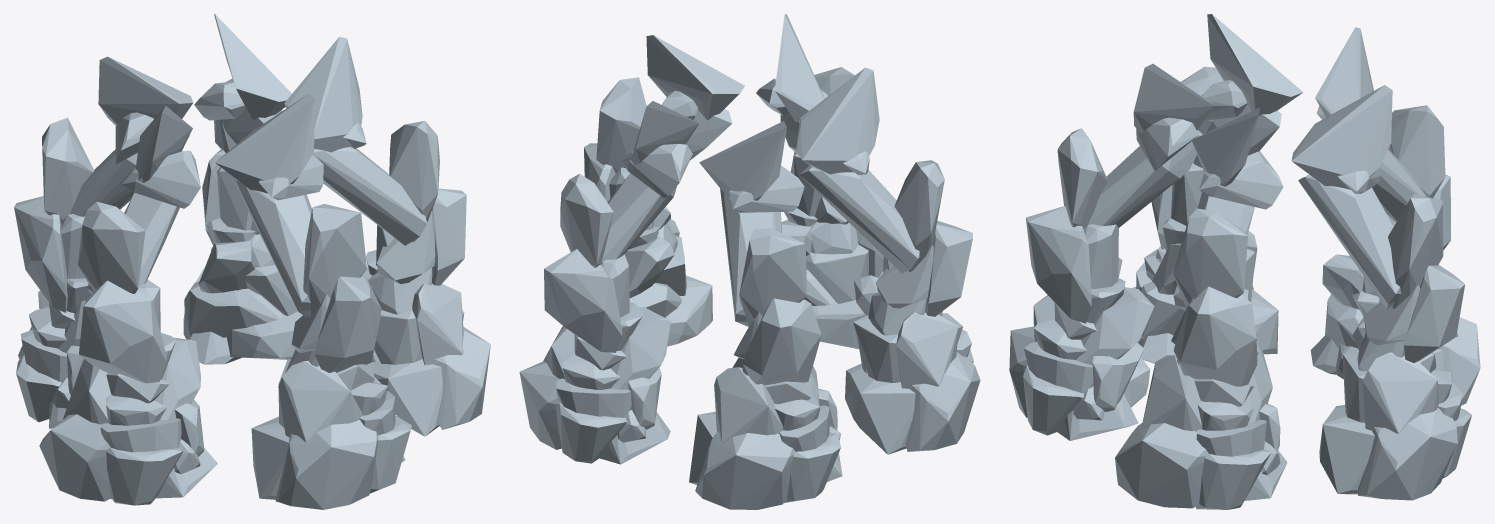
Rendered from RockFormation.fbx.
3 renders of one model, left to right at view 1: azimuth 30°, elevation 25°; view 2: azimuth 150°, elevation 25°; view 3: azimuth 270°, elevation 25°, orthographic. The views are drawn at different scales.
Parts seen in each view (by area): view 1: s.0955; view 2: s.0955; view 3: s.0955.
Part boxes in pixels (<box>): s.0955: <box>14,14,490,509</box>; s.0955: <box>519,14,980,509</box>; s.0955: <box>1009,14,1480,509</box>.
Size of the model in its own units: 1028 by 906 by 1006.
